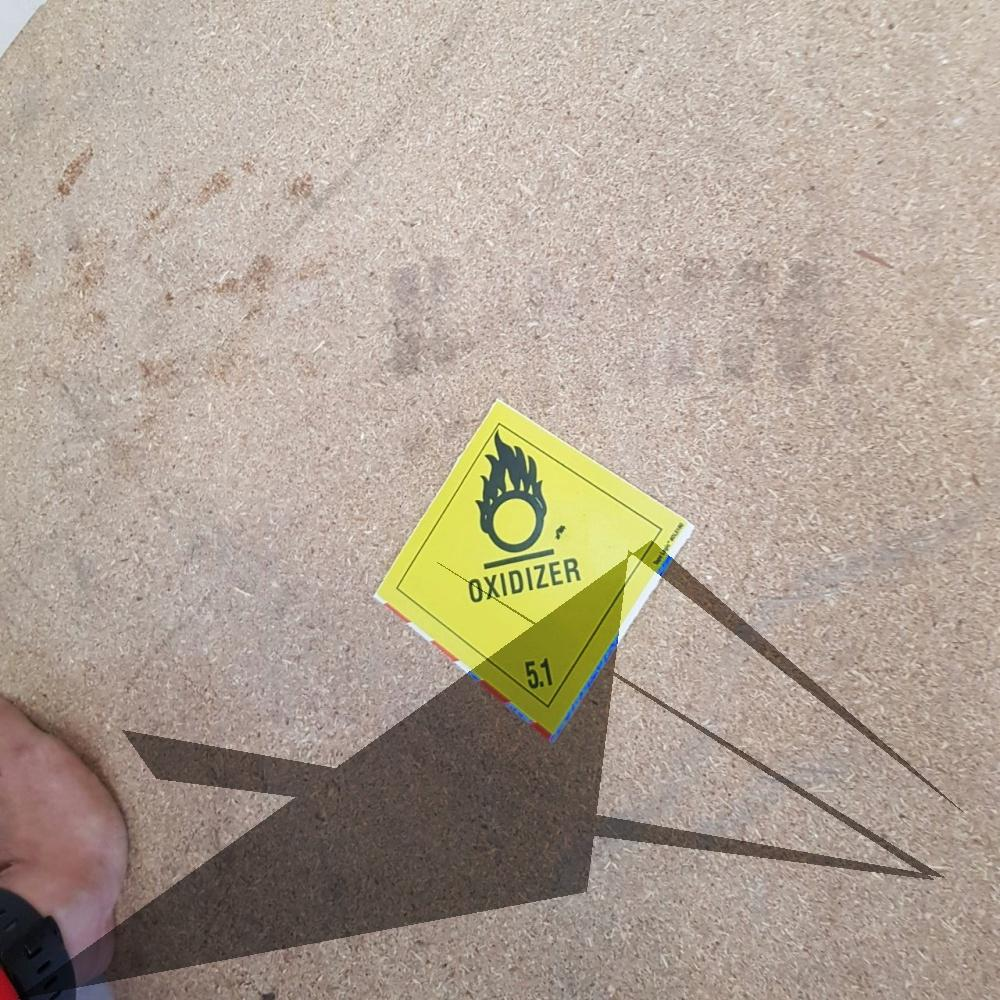oxidizer: (370, 390, 706, 748)
